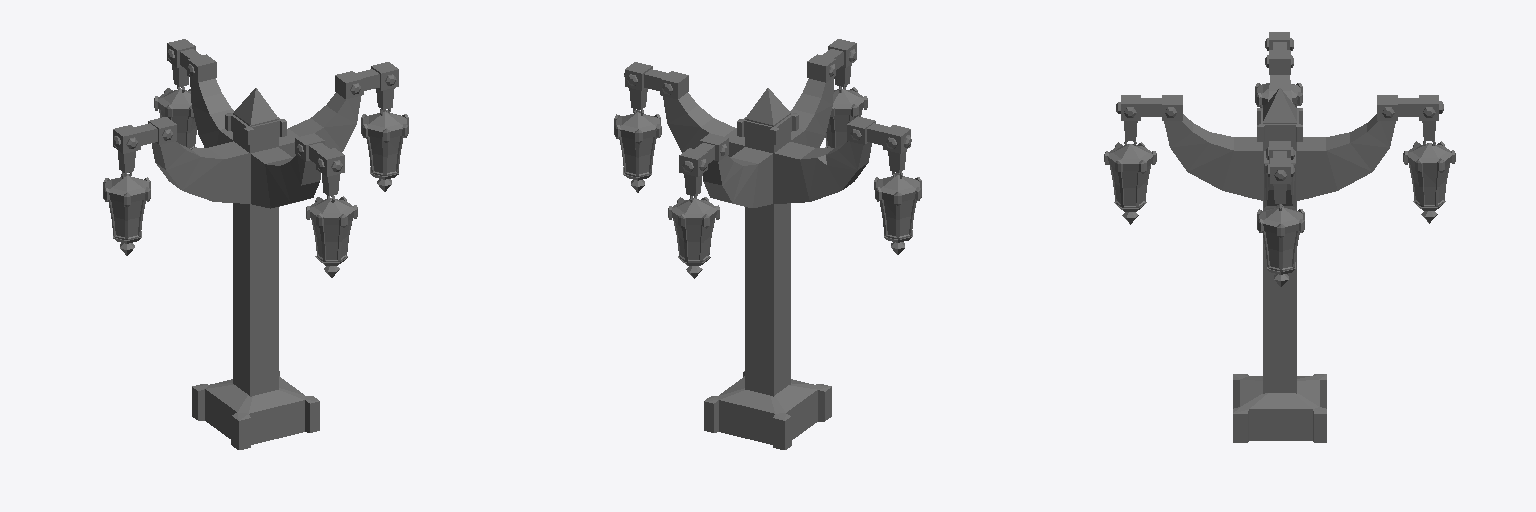
Rendered from lamp_03.obj.
3 renders of one model, left to right at view 1: azimuth 30°, elevation 25°; view 2: azimuth 150°, elevation 25°; view 3: azimuth 270°, elevation 25°, orthographic.
Bounding box in the file's own units: 3.72 × 3.94 × 3.72.